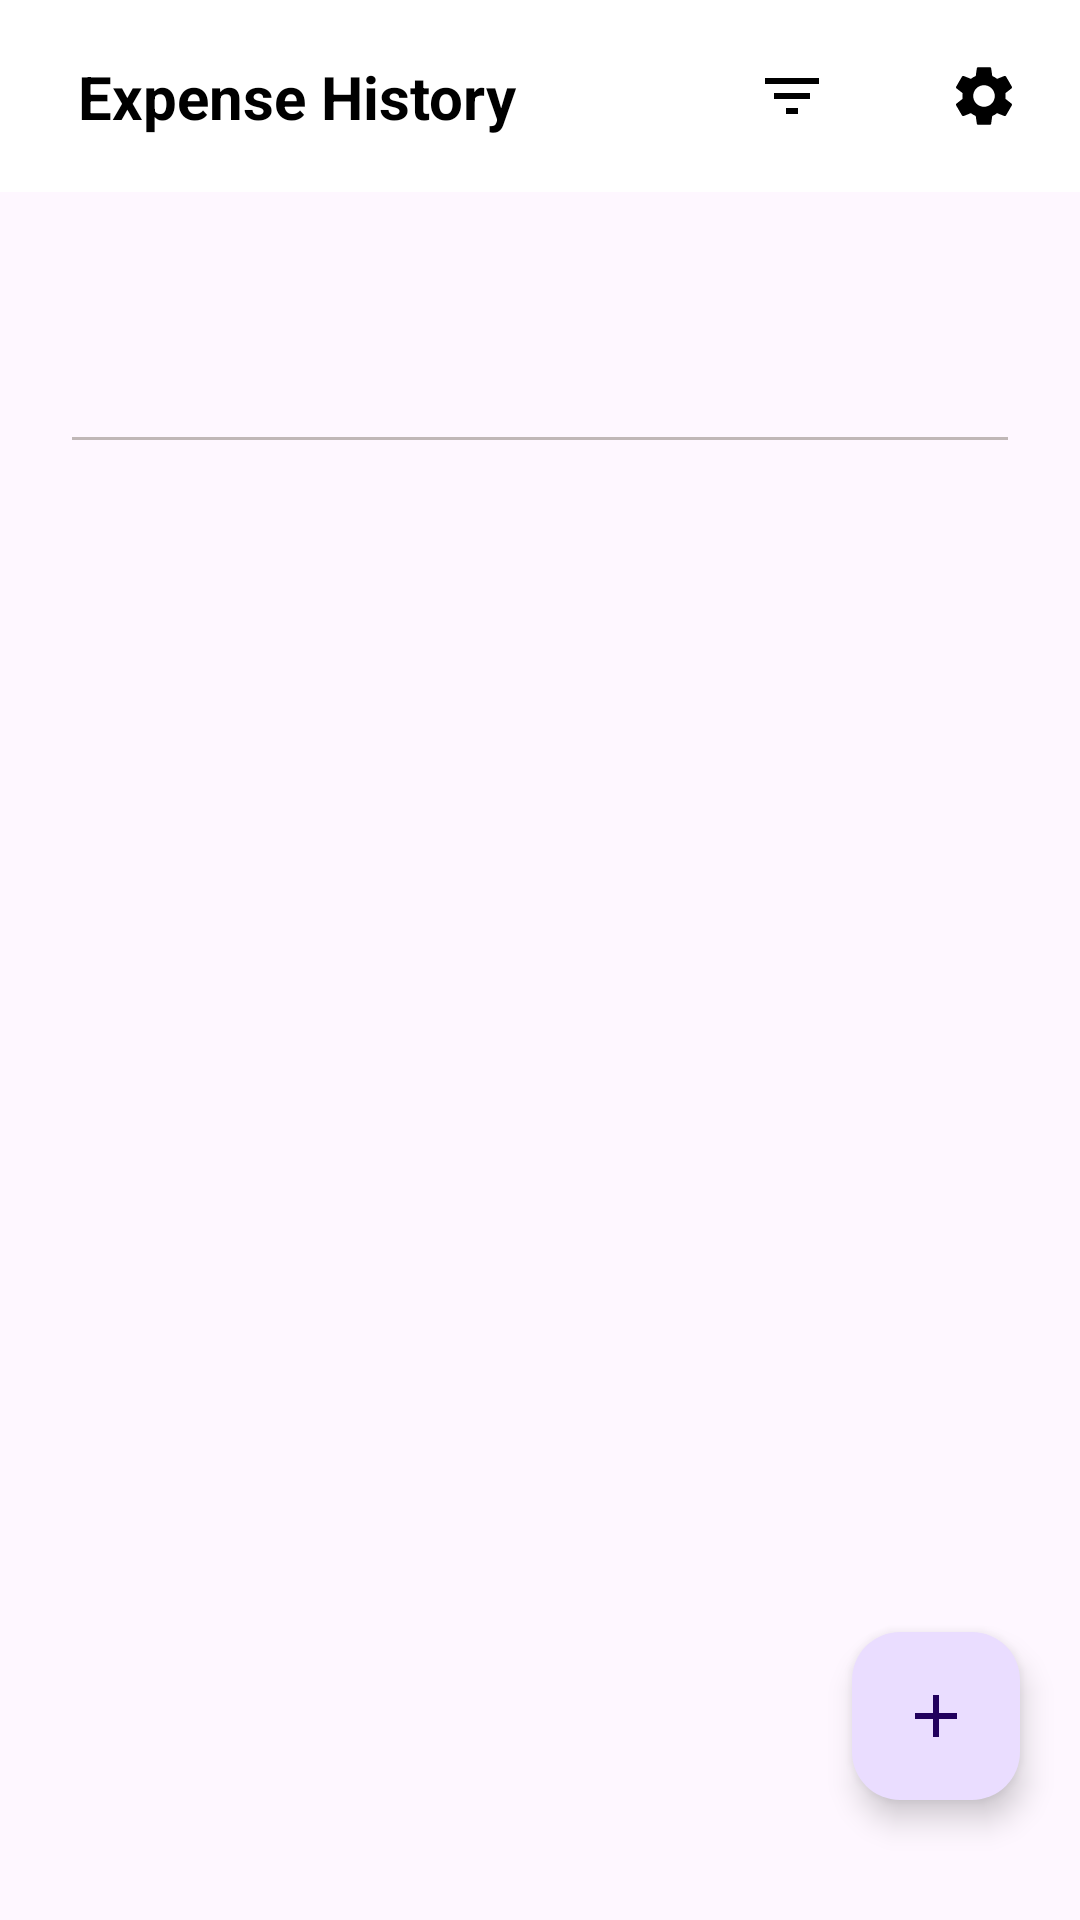

Where icons sit on this 1080 x 1920 app screen, as Rect(x1, y1, x2, y2):
Add Item: Rect(852, 1632, 1020, 1800)
Filter: Rect(765, 78, 819, 114)
Settings: Rect(956, 67, 1012, 125)
